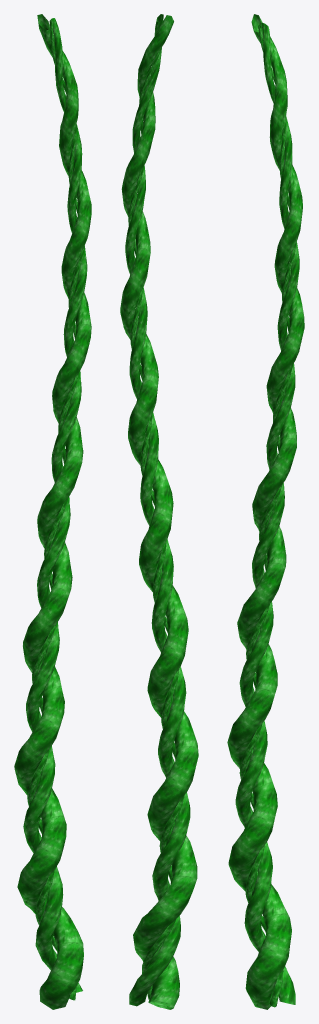
File: body_curve.FBX
3 renders of one model, left to right at view 1: azimuth 30°, elevation 25°; view 2: azimuth 150°, elevation 25°; view 3: azimuth 330°, elevation 25°, orthographic.
Visible parts, largest first — view 1: Spring032, Spring033, Spring031; view 2: Spring032, Spring033, Spring031; view 3: Spring032, Spring033, Spring031.
Part boxes in pixels (x1,y1,x2,y2): Spring032: (14, 14, 91, 1009); Spring033: (23, 18, 87, 992); Spring031: (27, 21, 83, 1000); Spring032: (120, 15, 198, 1009); Spring033: (125, 14, 190, 1006); Spring031: (128, 48, 184, 999); Spring032: (227, 14, 304, 1009); Spring033: (235, 23, 299, 1004); Spring031: (239, 24, 296, 1007).
Bounding box in the file's own units: 116 × 1521 × 80.77.
3 materials, 3 textured.
